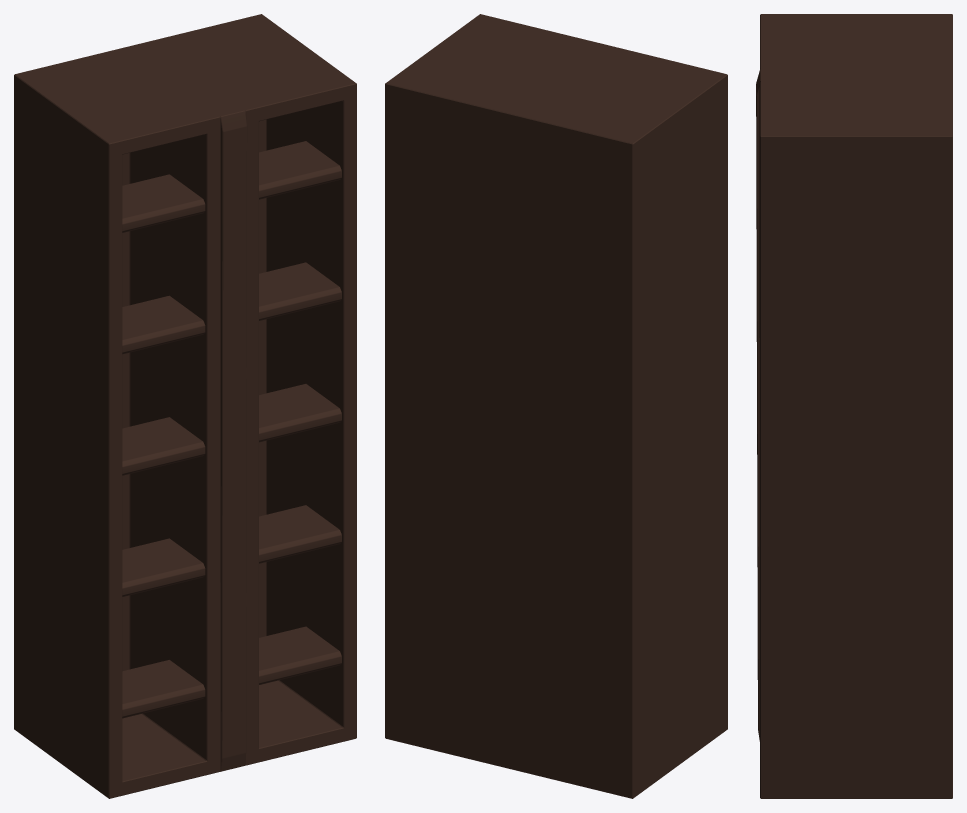
The model's file is Shelf_2.fbx.
The picture shows the model from 3 angles, left to right: view 1: azimuth 30°, elevation 25°; view 2: azimuth 150°, elevation 25°; view 3: azimuth 270°, elevation 25°; orthographic projection.
Parts seen in each view (by area): view 1: Shelf_Two_Rows; view 2: Shelf_Two_Rows; view 3: Shelf_Two_Rows.
Boxes of the visible parts, <box> form: Shelf_Two_Rows: <box>14,14,356,798</box>; Shelf_Two_Rows: <box>385,14,727,798</box>; Shelf_Two_Rows: <box>756,14,952,798</box>.
Size of the model in its own units: 7.23 by 18.24 by 4.91.
